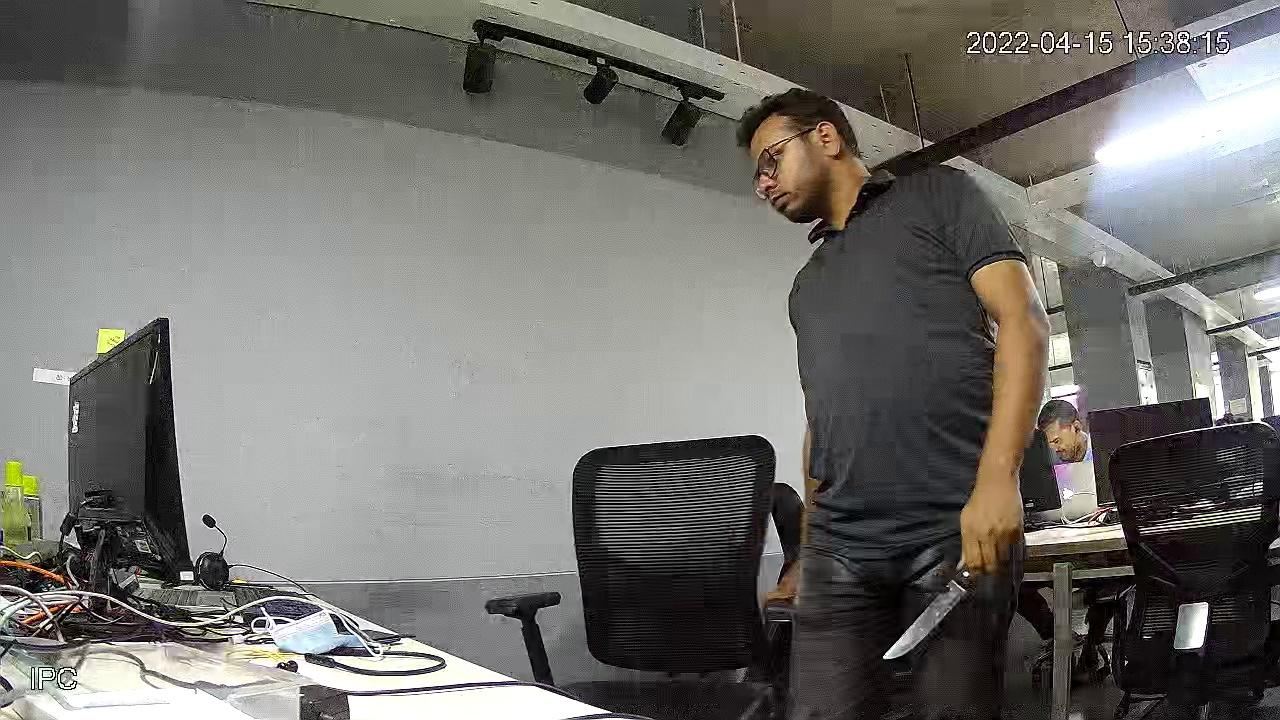knives: (885, 574, 988, 672)
